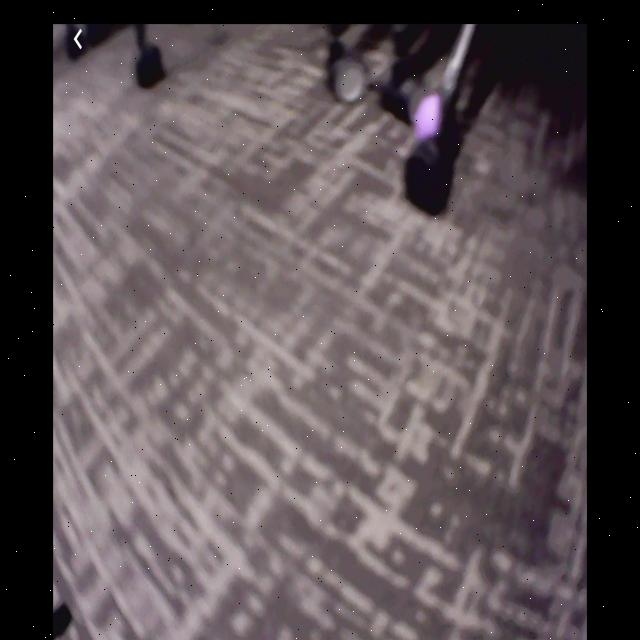ball: (415, 94, 443, 141)
